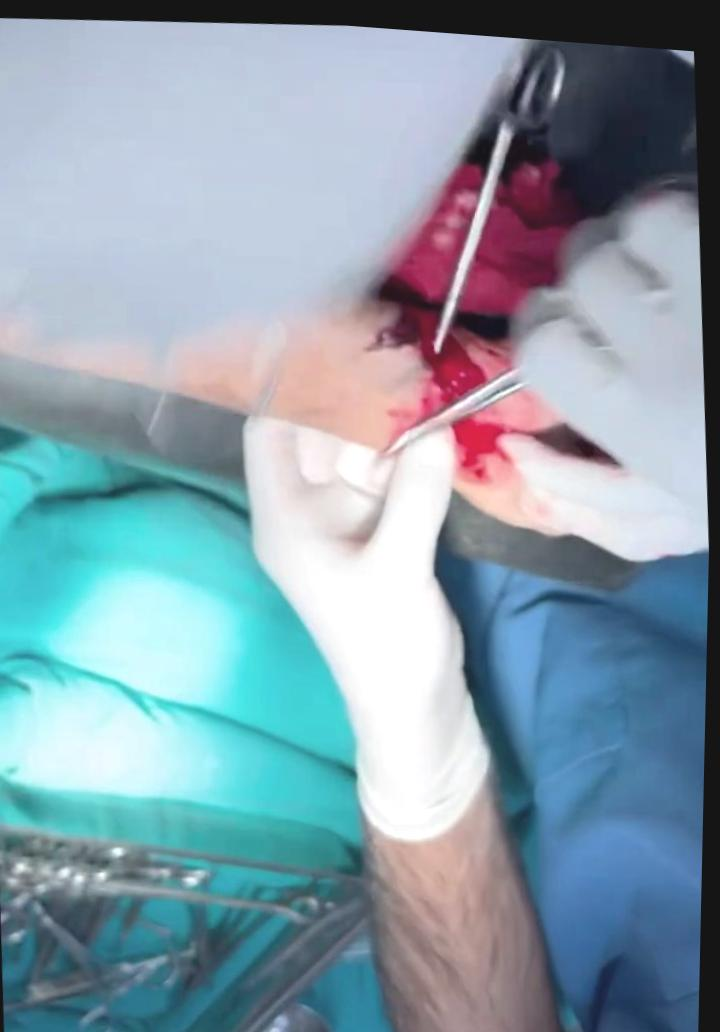Fire: (383, 155, 489, 405), (459, 148, 583, 326), (456, 409, 506, 461)
